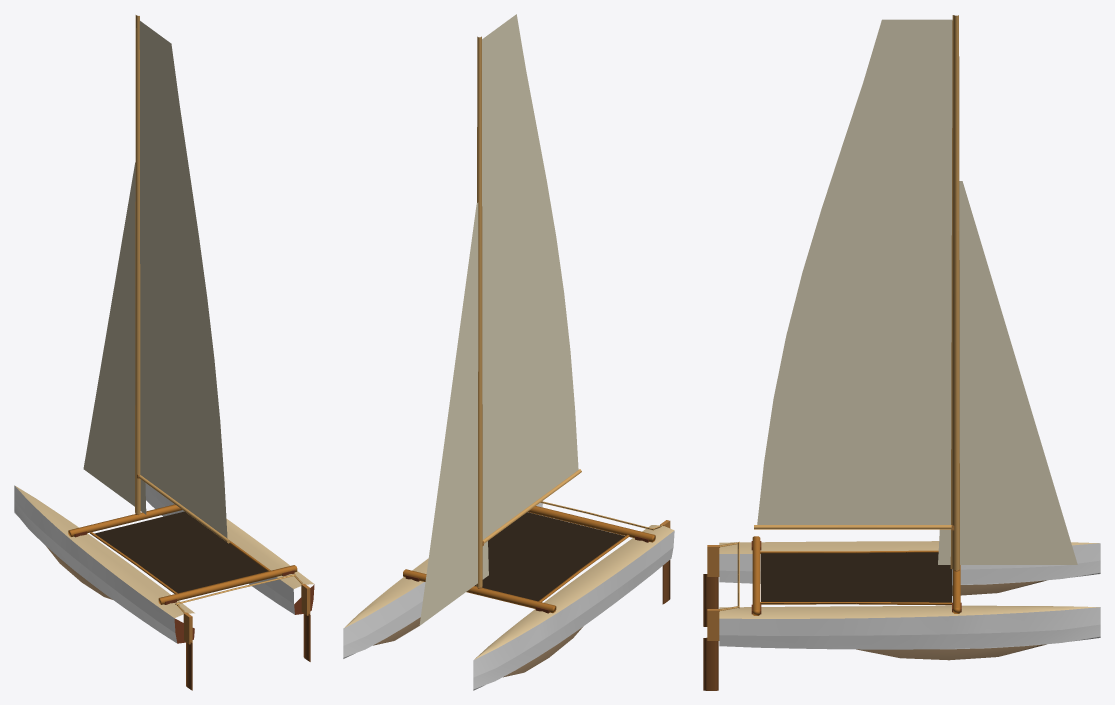
Rendered from beach-cat.far.glb.
3 views of the same model, side by side, from view 1: azimuth 30°, elevation 25°; view 2: azimuth 150°, elevation 25°; view 3: azimuth 270°, elevation 25° (orthographic). The views are drawn at different scales.
Parts seen in each view (by area): view 1: sail, hull, jib, mast, rudder-starboard, rudder-port; view 2: sail, hull, jib, mast, daggerboard, boom; view 3: sail, hull, jib, mast, daggerboard, rudder-starboard, rudder-port, boom.
Part boxes in pixels (box(x1,y1,x2,y2)): sail: box(139, 21, 227, 538); hull: box(14, 483, 314, 643); jib: box(83, 162, 146, 514); mast: box(135, 15, 140, 515); rudder-starboard: box(294, 575, 310, 661); rudder-port: box(176, 603, 192, 690); sail: box(482, 14, 578, 539); hull: box(343, 501, 674, 690); jib: box(419, 202, 488, 625); mast: box(476, 36, 482, 588); daggerboard: box(373, 617, 583, 677); boom: box(482, 469, 581, 545); sail: box(757, 19, 952, 524); hull: box(719, 536, 1100, 649); jib: box(938, 181, 1077, 564); mast: box(950, 15, 959, 571); daggerboard: box(856, 580, 1046, 660); rudder-starboard: box(703, 606, 738, 690); rudder-port: box(703, 542, 738, 626); boom: box(754, 525, 954, 530).
Size of the model in its own units: 2.41 by 9.4 by 5.25.
